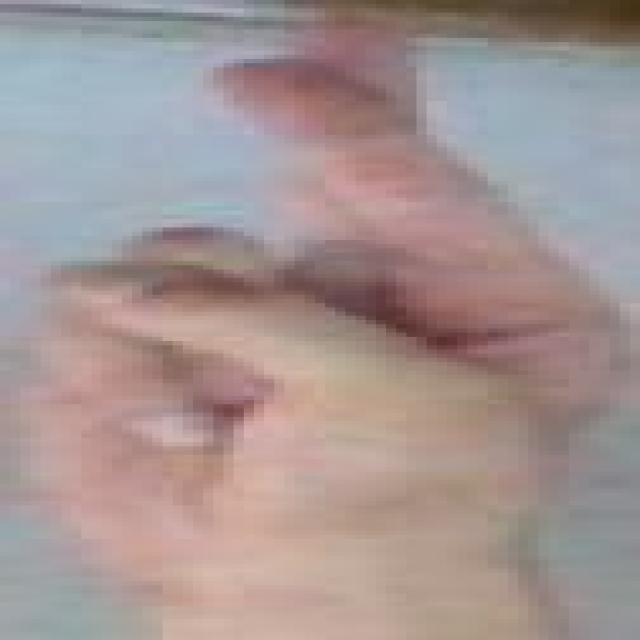R: (20, 0, 620, 632)
